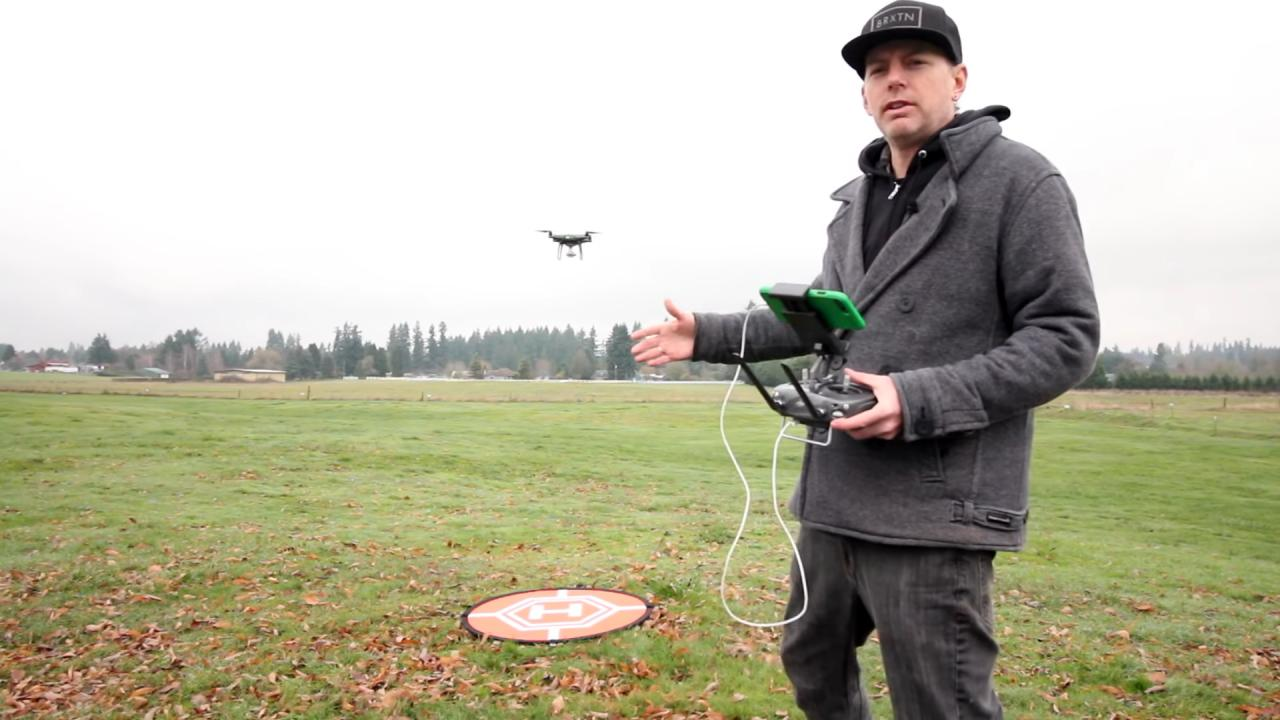Drone: (525, 218, 609, 270)
